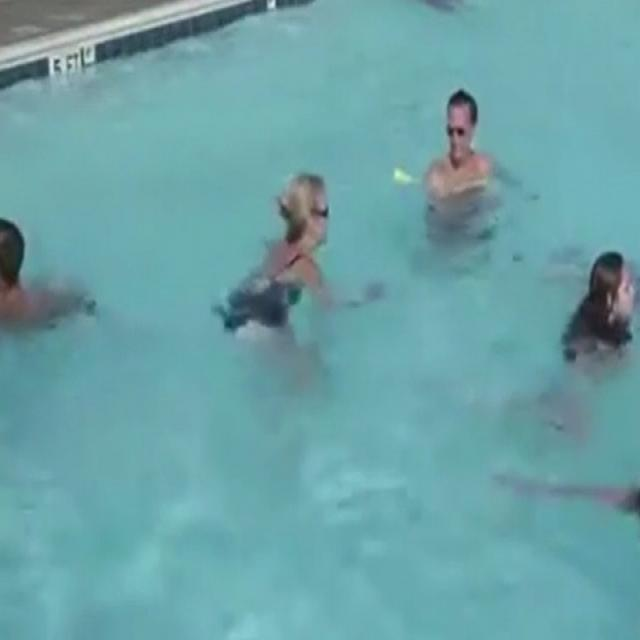swimming: (187, 153, 369, 353), (386, 81, 538, 246), (533, 234, 640, 387)
